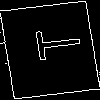T: (24, 25, 83, 63)
